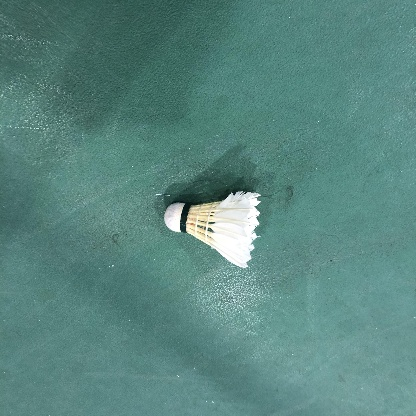ball_single: (164, 191, 260, 269)
